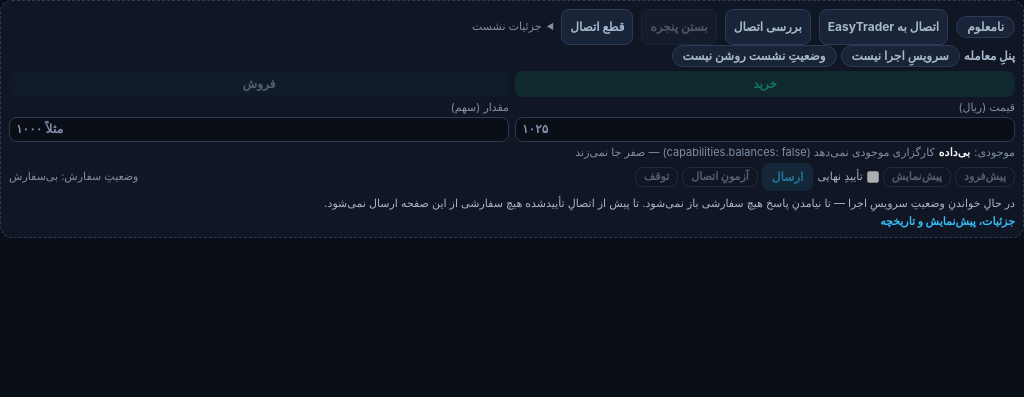
پاسخِ کارگزاری درِ رابط تعبیر نمی‌شود › بی‌capabilityِ صف، هیچ چیپِ «صف» رویِ ردیفِ تاریخچه نمی‌نشیند
The width and height of the screenshot is (1024, 397).
Click the button with test id "exec-detail-toggle": (948, 222) 880,215 -> 1015,229
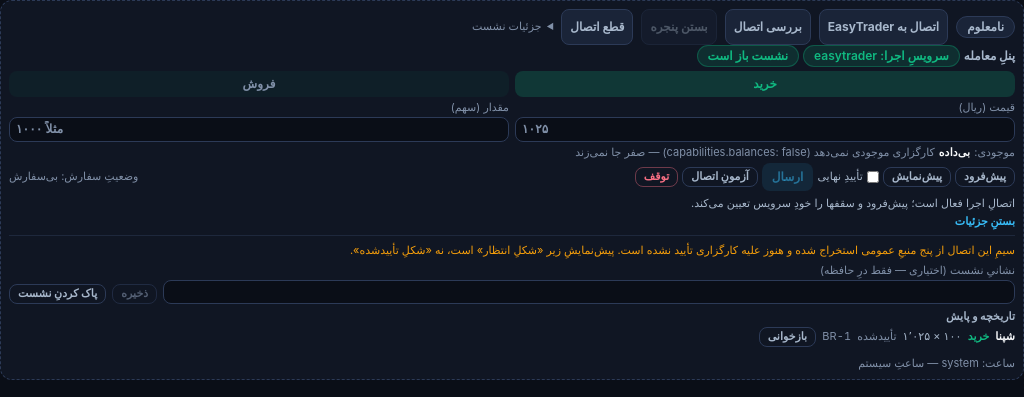
Check: the element with test id "exec-history-ui-9" is shown, box 759,327 -> 1015,347
Check: the button with test id "exec-refresh-ui-9" is enabled, box 759,327 -> 816,347
